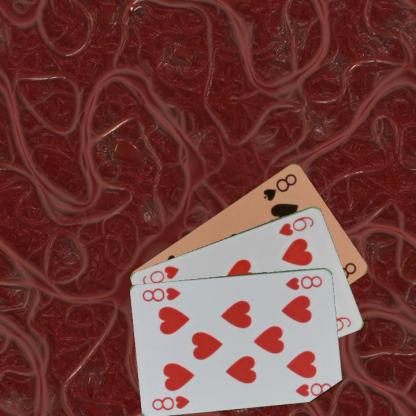6h: (276, 213, 316, 237)
8h: (150, 392, 191, 412), (283, 273, 324, 291)
8s: (260, 171, 299, 202)
